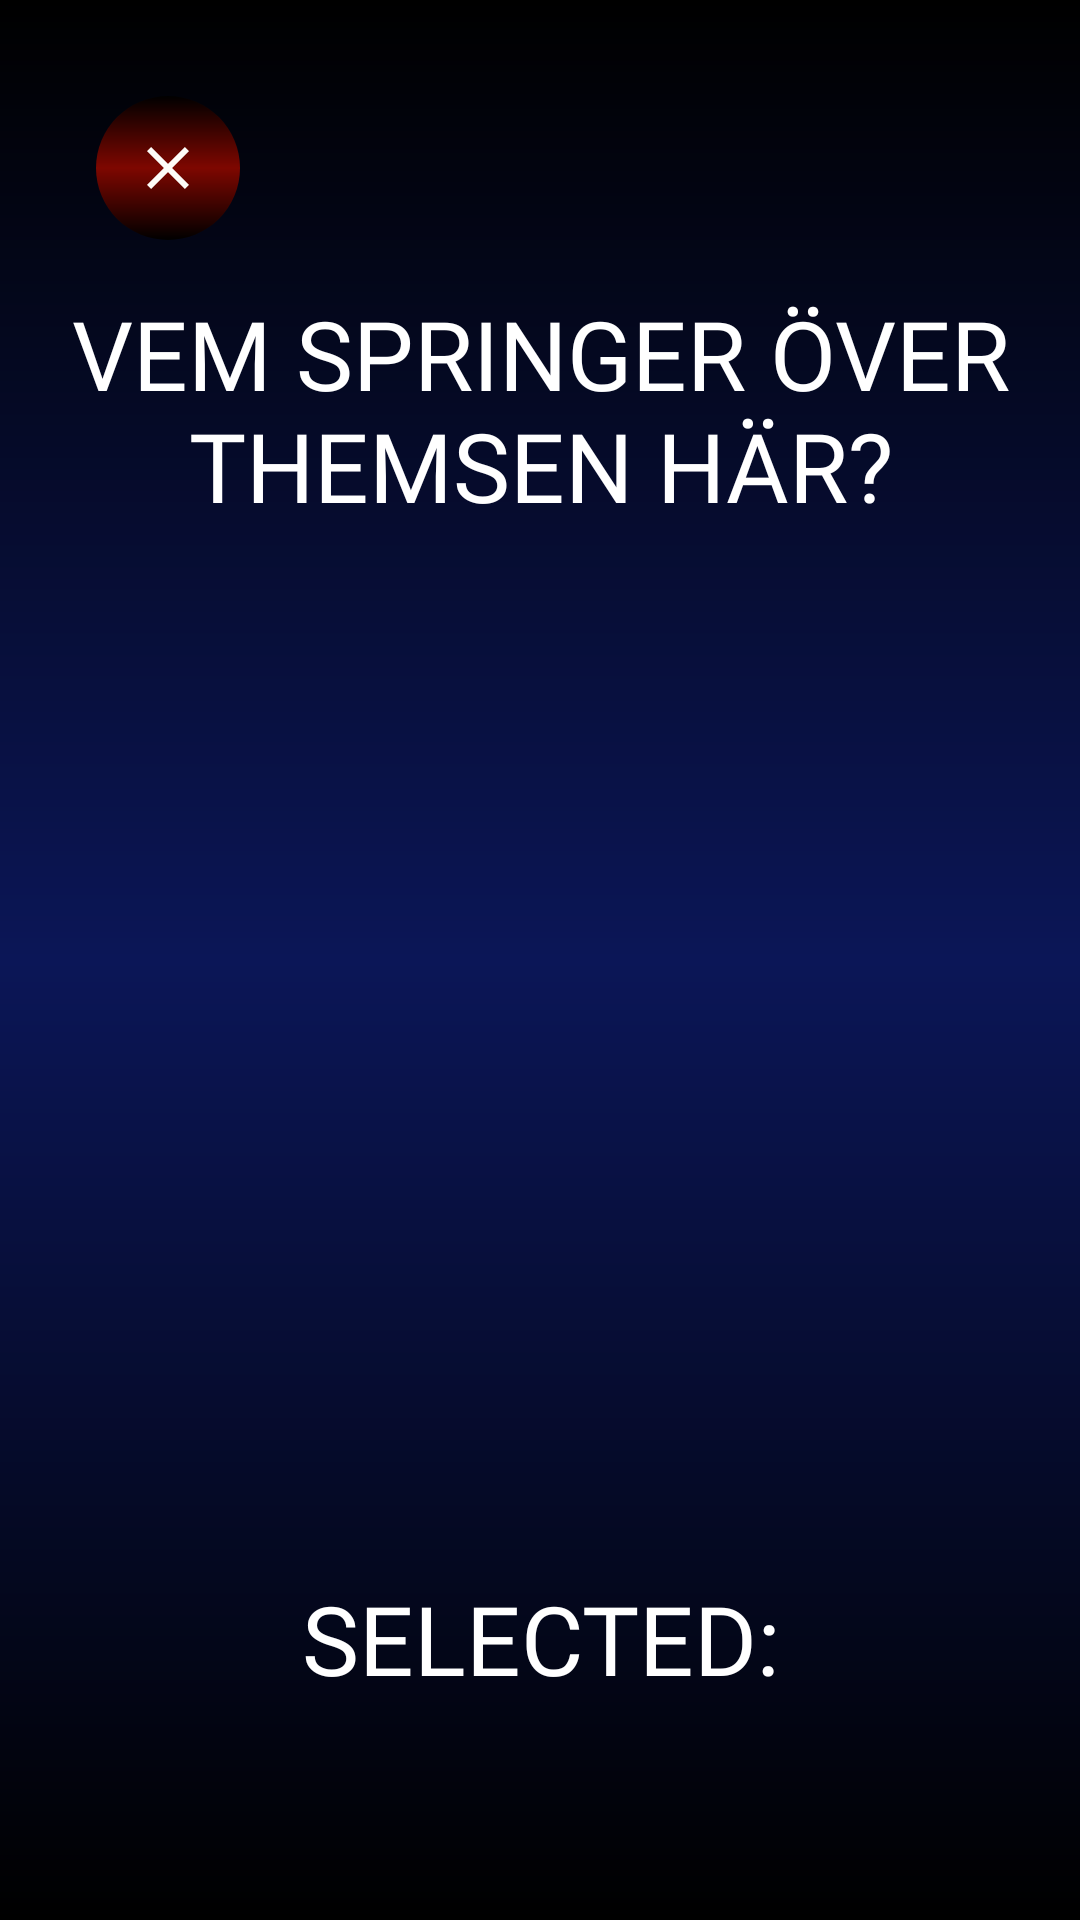

Icons on this 1080px x 1920px Android screen, each with the point to tap as (x,y):
close: (168,168)
